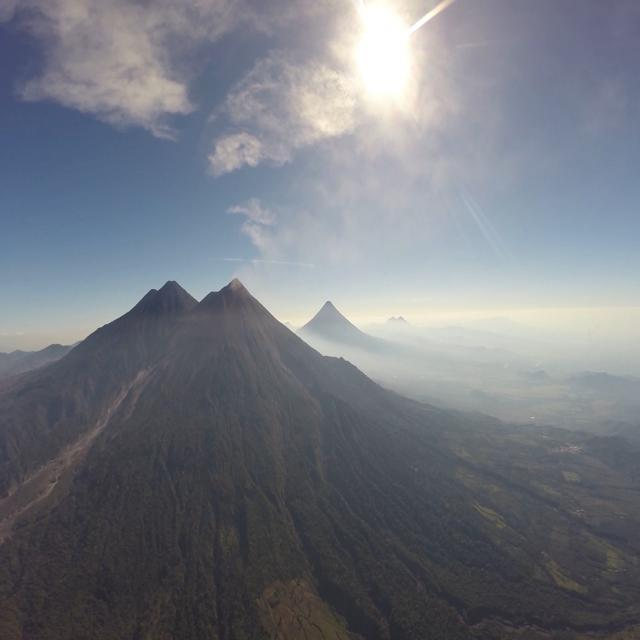Summit: (218, 274, 249, 294)
